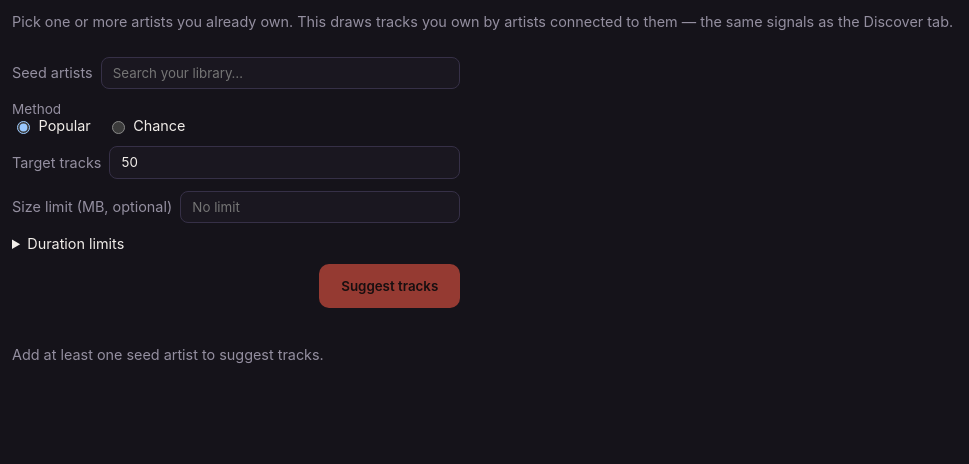
SuggestPanel seed search › shows a failed artist search as an error, not as no matches
In the field named "Search your library for a seed artist": x=280, y=73 [100,57,460,89], type "Boar"
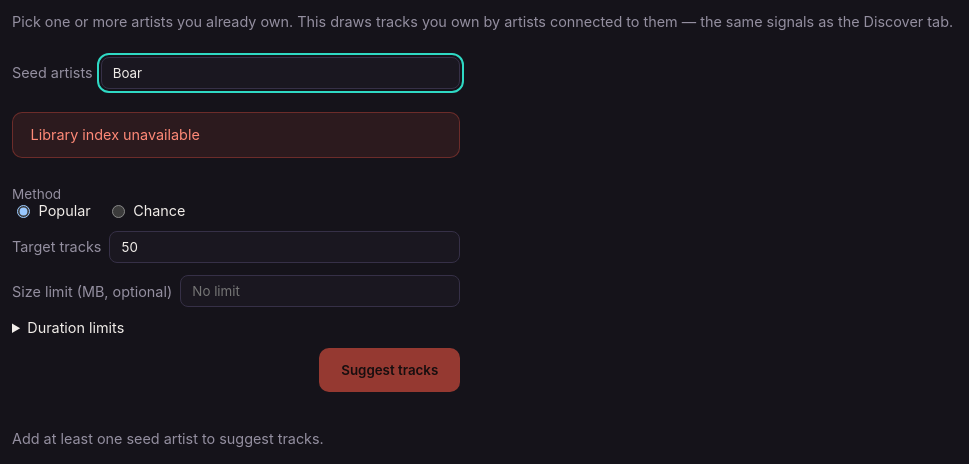
Expected: the message reads "Library index unavailable", [31,126,200,143]
